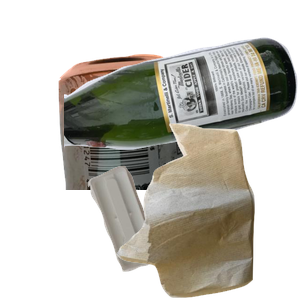glass: (64, 35, 300, 181)
metal: (56, 52, 242, 232)
plastic: (85, 163, 235, 300)
trash: (114, 121, 300, 300)
